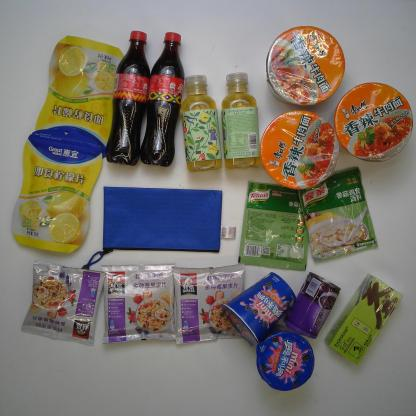Canned Food: (283, 262, 342, 340)
Dessert: (213, 270, 298, 350), (243, 326, 329, 400)
Dried Fruit: (22, 17, 125, 162), (11, 123, 105, 257)
Drink: (140, 23, 193, 170), (104, 20, 151, 172), (216, 66, 272, 179), (180, 69, 232, 183)
Instant Drink: (94, 255, 184, 357), (16, 255, 105, 351), (321, 270, 408, 367), (171, 261, 252, 348)
Instant Noodles: (256, 8, 354, 108), (252, 96, 349, 194), (332, 69, 414, 170)
Seasoner: (300, 167, 385, 264), (237, 172, 316, 272)
Stationery: (95, 173, 240, 268)
